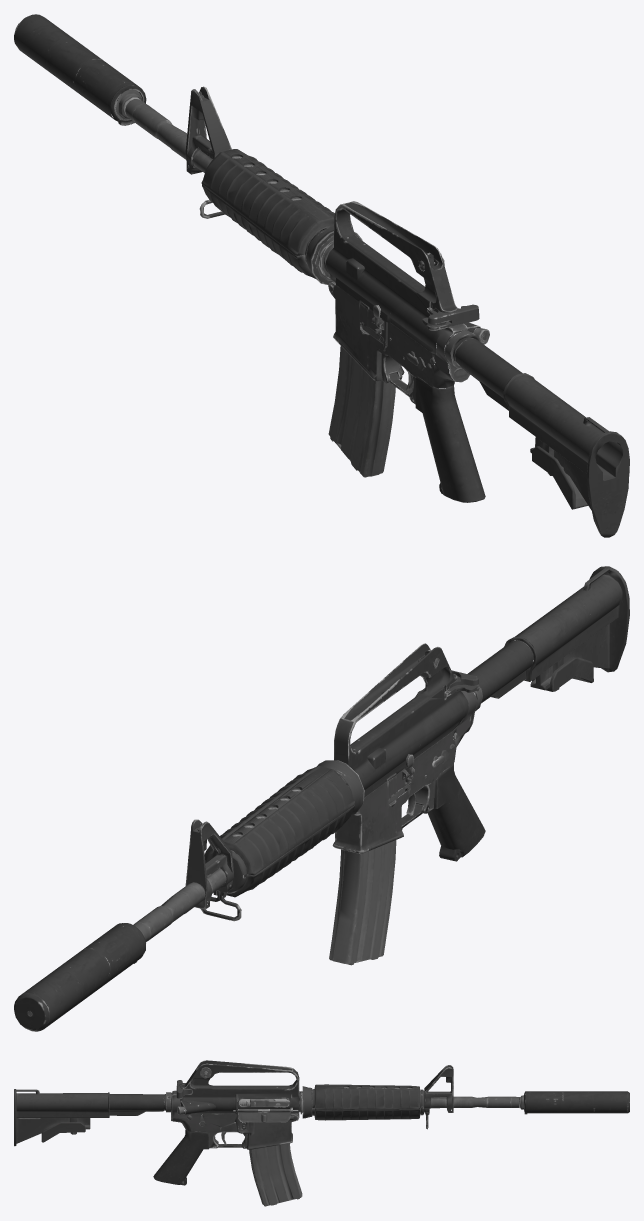
The picture shows the model from 3 angles, top to bottom: view 1: azimuth 30°, elevation 25°; view 2: azimuth 150°, elevation 25°; view 3: azimuth 270°, elevation 25°; orthographic projection. The views are drawn at different scales.
Parts seen in each view (by area): view 1: rest_steel, magazine_steel, suppressor_steel, bolt_steel; view 2: rest_steel, magazine_steel, suppressor_steel; view 3: rest_steel, magazine_steel, suppressor_steel.
Boxes of the visible parts, x1,y1,x2,y2 form: rest_steel: (115,86,629,537); magazine_steel: (328,303,395,477); suppressor_steel: (14,14,146,125); bolt_steel: (422,304,479,330); rest_steel: (133,566,629,941); magazine_steel: (329,779,396,965); suppressor_steel: (14,923,145,1031); rest_steel: (14,1060,524,1185); magazine_steel: (249,1099,302,1206); suppressor_steel: (524,1091,629,1114).
Bounding box in the file's own units: 0.0651 × 0.2498 × 0.9817.
Materials: 1 (1 with a texture image).
